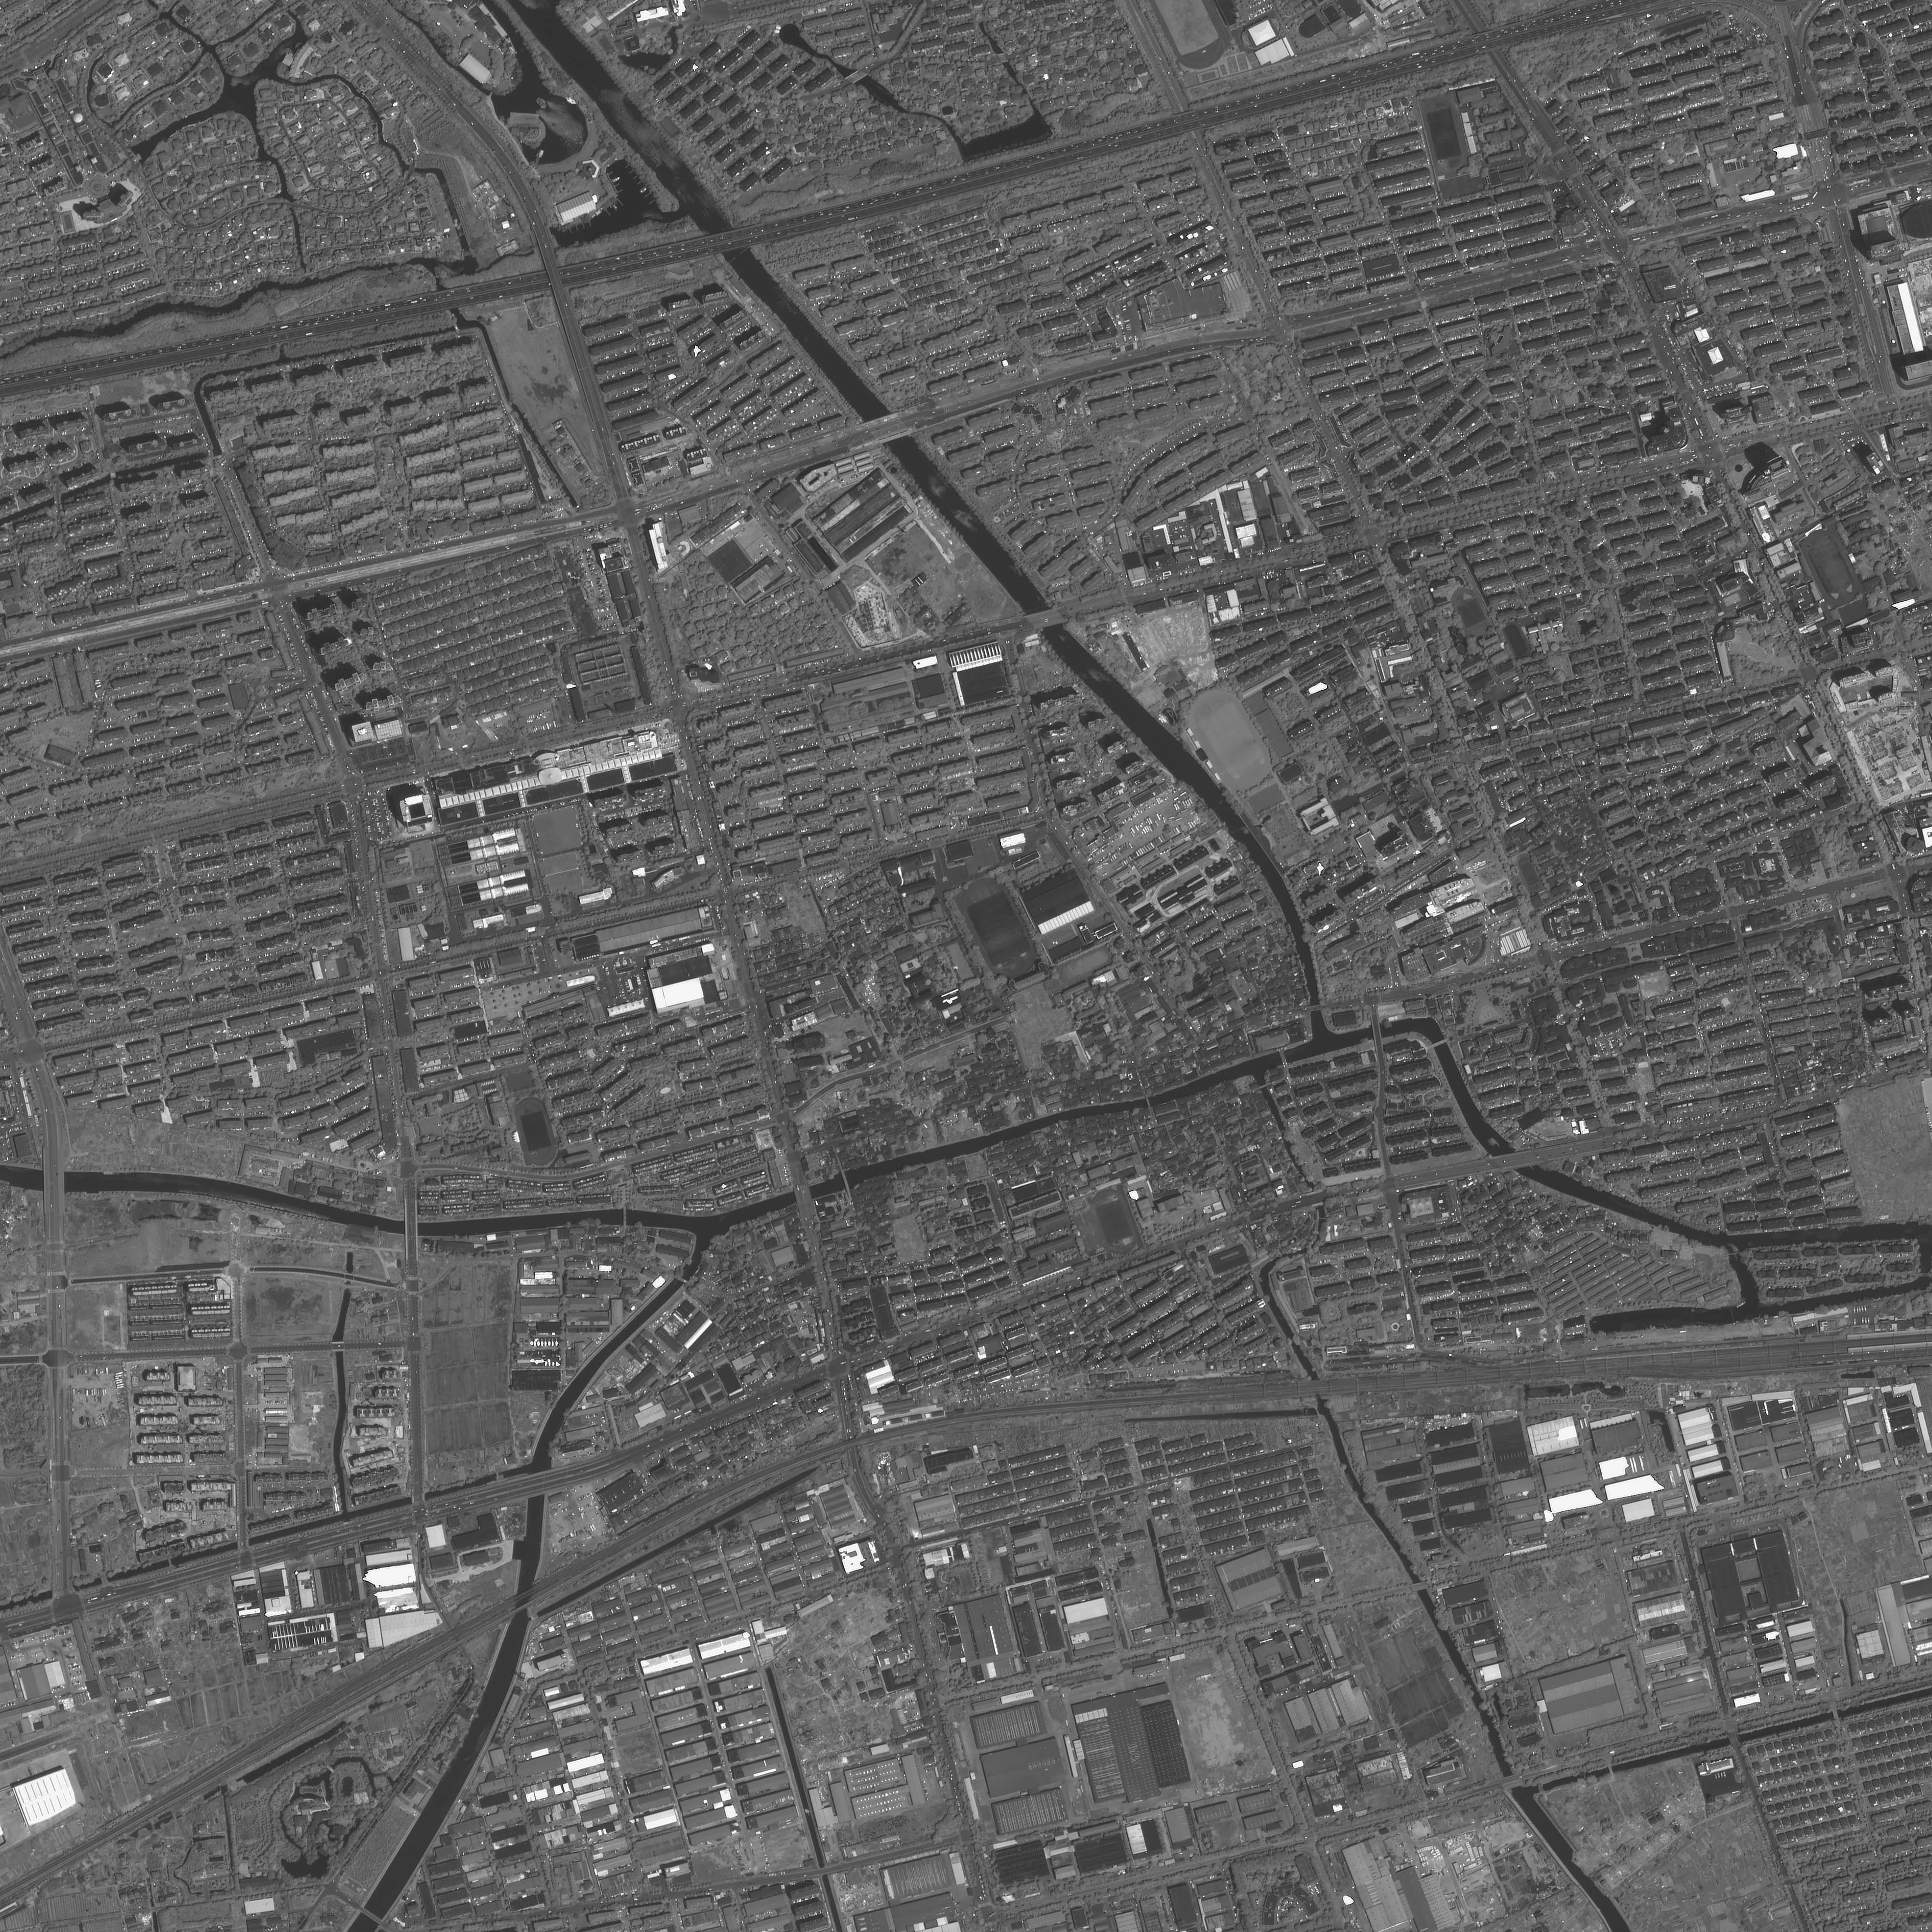basketball court: (343, 1877, 364, 1897)
bridge: (863, 412, 911, 444), (709, 226, 750, 255), (1030, 607, 1067, 630), (1493, 1152, 1537, 1169), (527, 1468, 552, 1499), (44, 1169, 65, 1194), (439, 287, 458, 311), (793, 1185, 814, 1203), (844, 71, 870, 85), (361, 1907, 382, 1925), (513, 1599, 534, 1615), (51, 1585, 76, 1598), (513, 1587, 534, 1601), (515, 1591, 536, 1603), (1504, 1775, 1522, 1789), (405, 1221, 419, 1237), (1311, 1380, 1323, 1398), (1414, 1580, 1430, 1592), (840, 1171, 849, 1191), (237, 1539, 249, 1552), (1371, 1024, 1382, 1039), (410, 1495, 426, 1504), (343, 1272, 356, 1283), (333, 1341, 345, 1352), (1277, 1053, 1288, 1065), (1433, 1039, 1447, 1047), (998, 53, 1008, 64), (1307, 1005, 1323, 1012), (1729, 1736, 1741, 1744), (623, 1207, 628, 1226), (99, 1576, 110, 1585), (819, 1867, 828, 1877), (1831, 1709, 1840, 1720), (1146, 1099, 1152, 1109), (1608, 1766, 1614, 1773)
ground track field: (950, 870, 1044, 989), (1148, 0, 1237, 74), (1796, 524, 1867, 610), (1417, 94, 1472, 177), (1086, 1184, 1145, 1260), (510, 1093, 561, 1169), (1449, 582, 1495, 640)
soccer ball field: (966, 892, 1031, 966)
storage tank: (73, 113, 85, 124), (46, 127, 58, 136)
